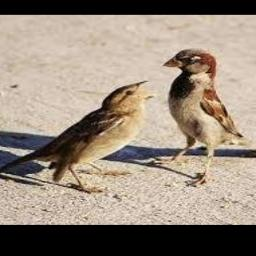Sparrow: (0, 80, 154, 194), (151, 48, 256, 187)
